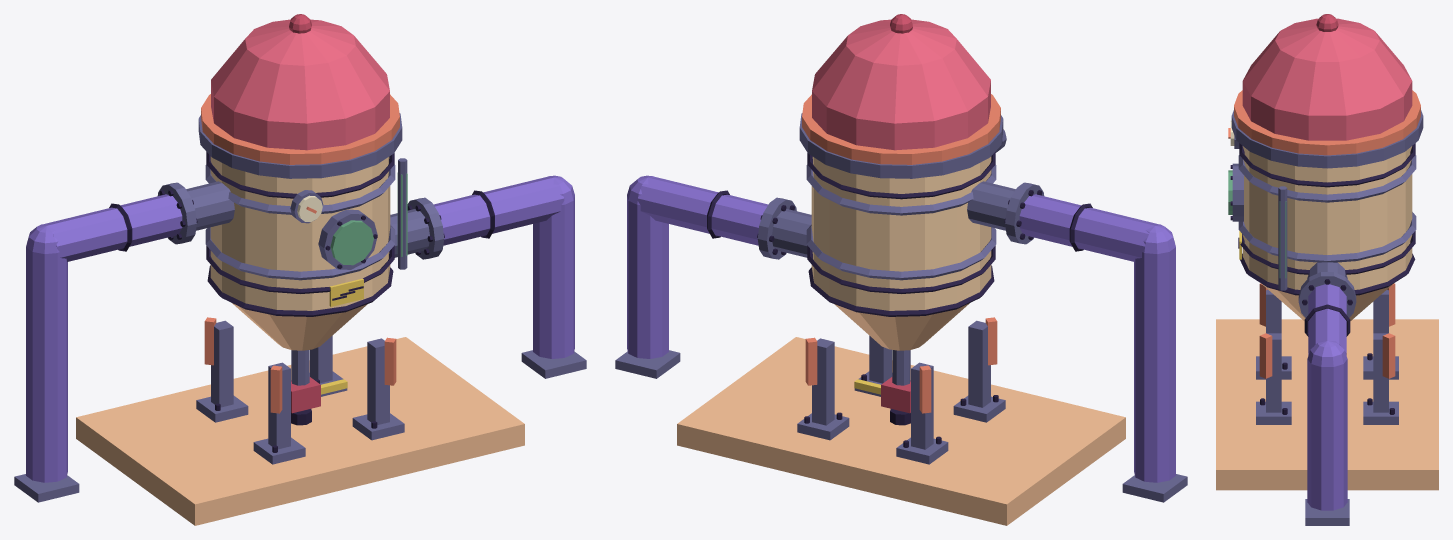
Rendered from pot_boue.glb.
3 views of the same model, side by side, from view 1: azimuth 30°, elevation 25°; view 2: azimuth 150°, elevation 25°; view 3: azimuth 270°, elevation 25° (orthographic). The views are drawn at different scales.
Parts seen in each view (by area): view 1: pot_boue_sand, pot_boue_violet, pot_boue_steel, pot_boue_rose, pot_boue_peach, pot_boue_coral, pot_boue_dark, pot_boue_sage, pot_boue_yellow, pot_boue_crimson; view 2: pot_boue_sand, pot_boue_violet, pot_boue_steel, pot_boue_rose, pot_boue_peach, pot_boue_coral, pot_boue_dark, pot_boue_crimson; view 3: pot_boue_sand, pot_boue_rose, pot_boue_steel, pot_boue_peach, pot_boue_violet, pot_boue_coral, pot_boue_dark, pot_boue_sage, anim_lift_z_aimant.
Part boxes in pixels (x1=…): pot_boue_sand: x1=76, y1=303, x2=524, y2=525; pot_boue_violet: x1=26, y1=175, x2=574, y2=482; pot_boue_steel: x1=14, y1=113, x2=586, y2=502; pot_boue_rose: x1=211, y1=19, x2=389, y2=150; pot_boue_peach: x1=210, y1=156, x2=390, y2=310; pot_boue_coral: x1=201, y1=94, x2=399, y2=413; pot_boue_dark: x1=109, y1=152, x2=494, y2=452; pot_boue_sage: x1=330, y1=172, x2=407, y2=265; pot_boue_yellow: x1=321, y1=278, x2=363, y2=394; pot_boue_crimson: x1=291, y1=377, x2=320, y2=413; pot_boue_sand: x1=677, y1=303, x2=1125, y2=525; pot_boue_violet: x1=627, y1=175, x2=1175, y2=482; pot_boue_steel: x1=615, y1=113, x2=1187, y2=502; pot_boue_rose: x1=812, y1=19, x2=990, y2=150; pot_boue_peach: x1=811, y1=156, x2=991, y2=310; pot_boue_coral: x1=802, y1=94, x2=1000, y2=413; pot_boue_dark: x1=707, y1=152, x2=1092, y2=447; pot_boue_crimson: x1=881, y1=377, x2=910, y2=413; pot_boue_sand: x1=1216, y1=283, x2=1438, y2=490; pot_boue_rose: x1=1242, y1=18, x2=1412, y2=140; pot_boue_steel: x1=1231, y1=110, x2=1423, y2=525; pot_boue_peach: x1=1242, y1=146, x2=1412, y2=289; pot_boue_violet: x1=1307, y1=284, x2=1347, y2=510; pot_boue_coral: x1=1234, y1=90, x2=1420, y2=378; pot_boue_dark: x1=1230, y1=143, x2=1415, y2=414; pot_boue_sage: x1=1228, y1=170, x2=1286, y2=278; anim_lift_z_aimant: x1=1316, y1=14, x2=1338, y2=31.
Size of the model in its own units: 2.66 by 1.98 by 1.
